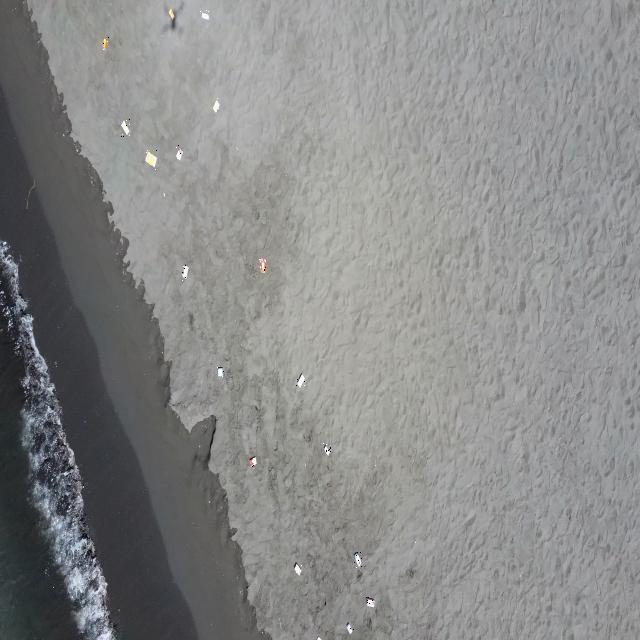retort-pouch: (145, 150, 157, 170), (258, 254, 267, 274), (296, 372, 305, 390), (121, 118, 130, 136), (365, 594, 375, 610), (175, 144, 184, 160), (354, 550, 362, 568), (181, 262, 189, 280), (200, 10, 210, 24), (167, 7, 176, 22), (323, 442, 331, 457), (249, 455, 257, 469), (294, 562, 302, 576), (213, 95, 220, 111), (347, 622, 354, 638), (102, 36, 109, 52), (217, 364, 224, 380)
